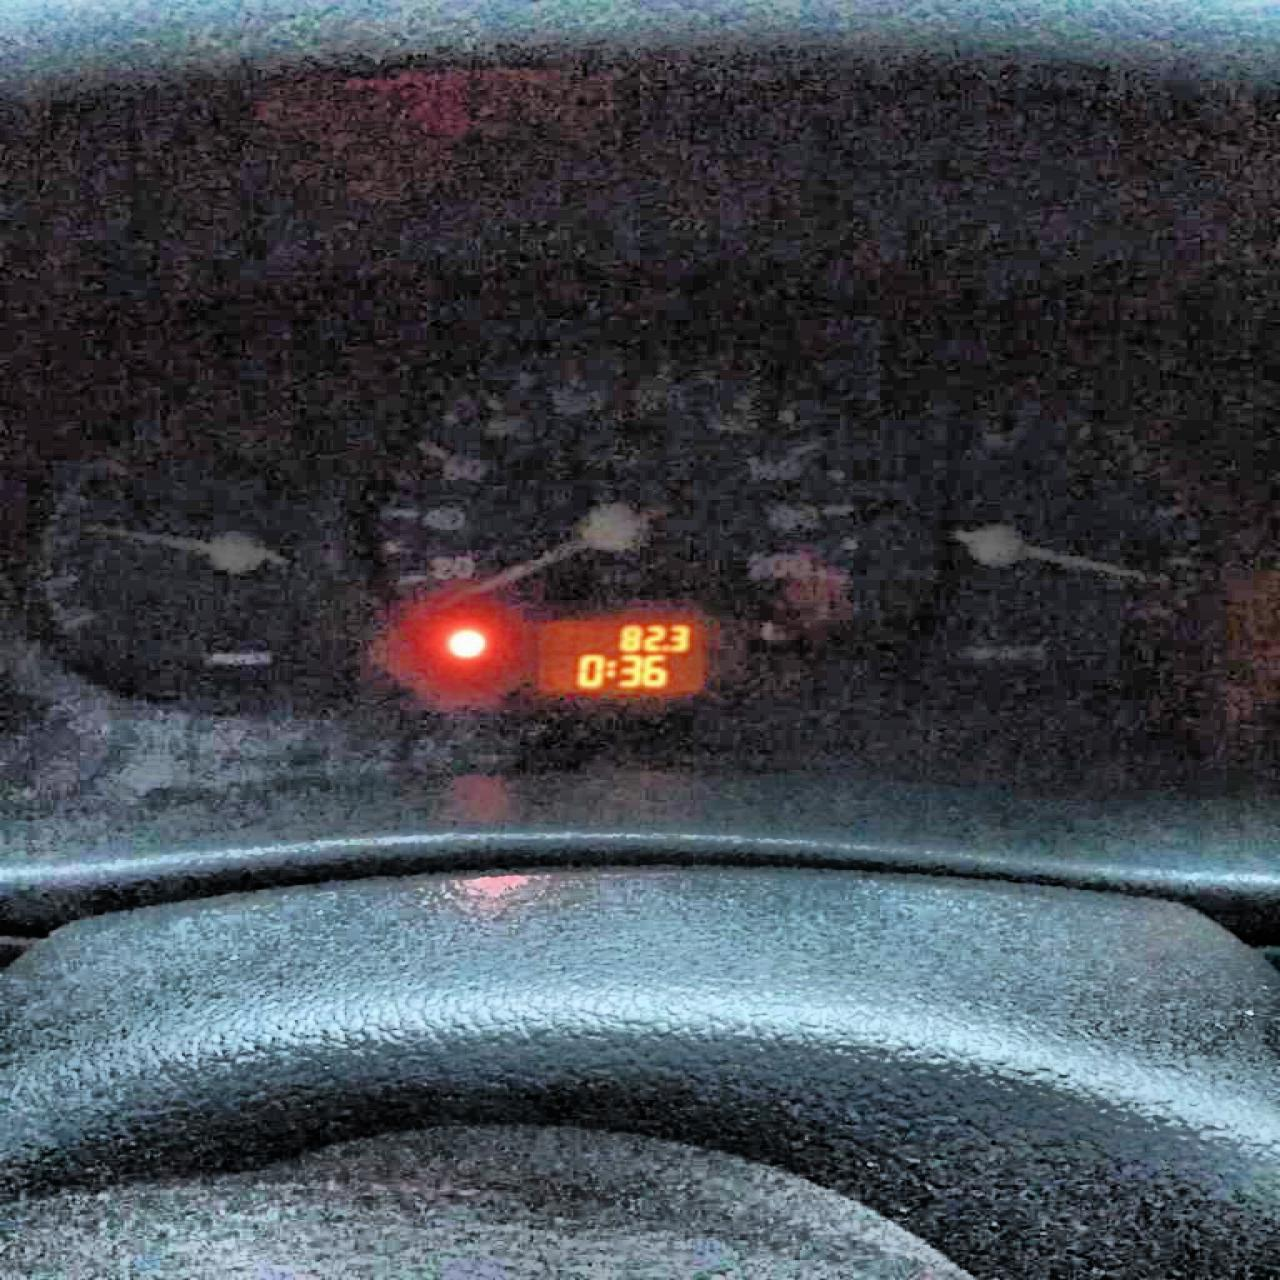-: (660, 641, 670, 651)
0: (573, 651, 604, 689)
2: (644, 622, 665, 652)
3: (617, 653, 640, 688), (669, 624, 688, 652)
6: (641, 653, 666, 688)
8: (618, 624, 640, 652)
X: (605, 658, 615, 678)
odometer: (533, 617, 703, 695)
